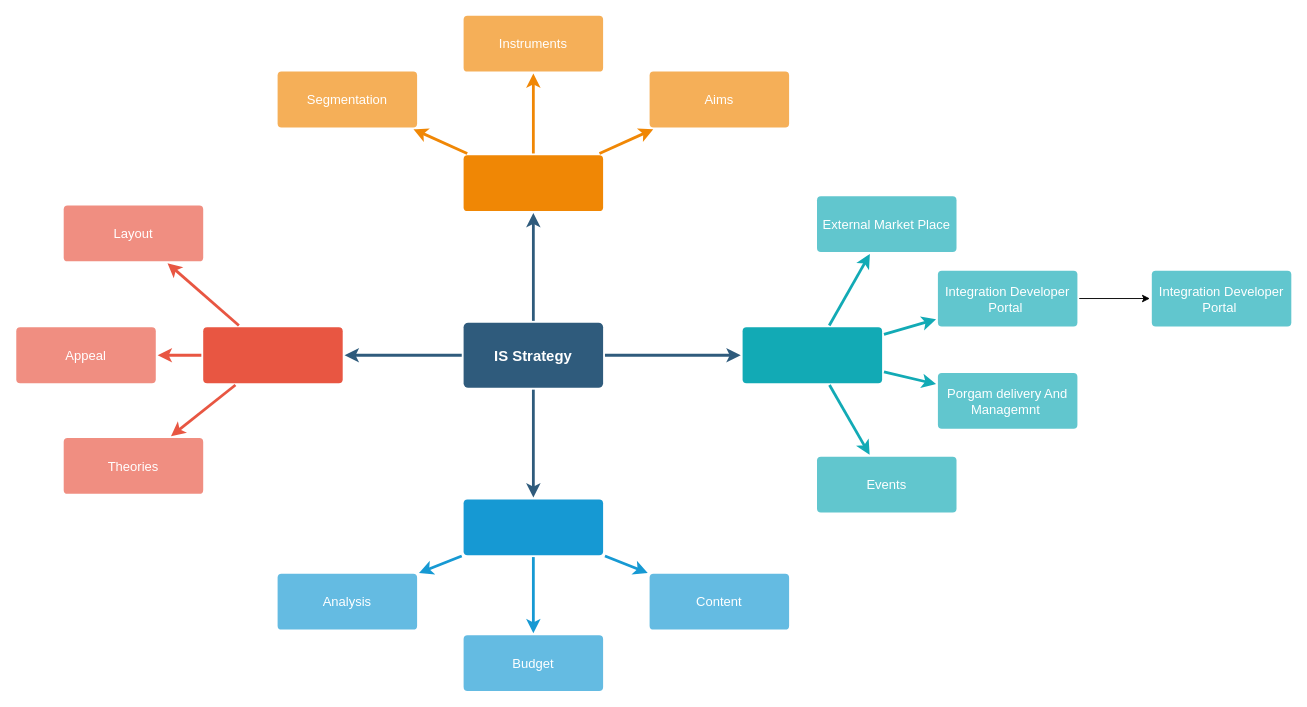
This 1307x707 diagram has some shape labels left out. Each missing label, with the box of its shape:
Client Journey: (742, 327, 882, 383)
Embassy: (203, 327, 342, 383)
Marketing: (463, 155, 603, 211)
Organization: (463, 499, 603, 555)
